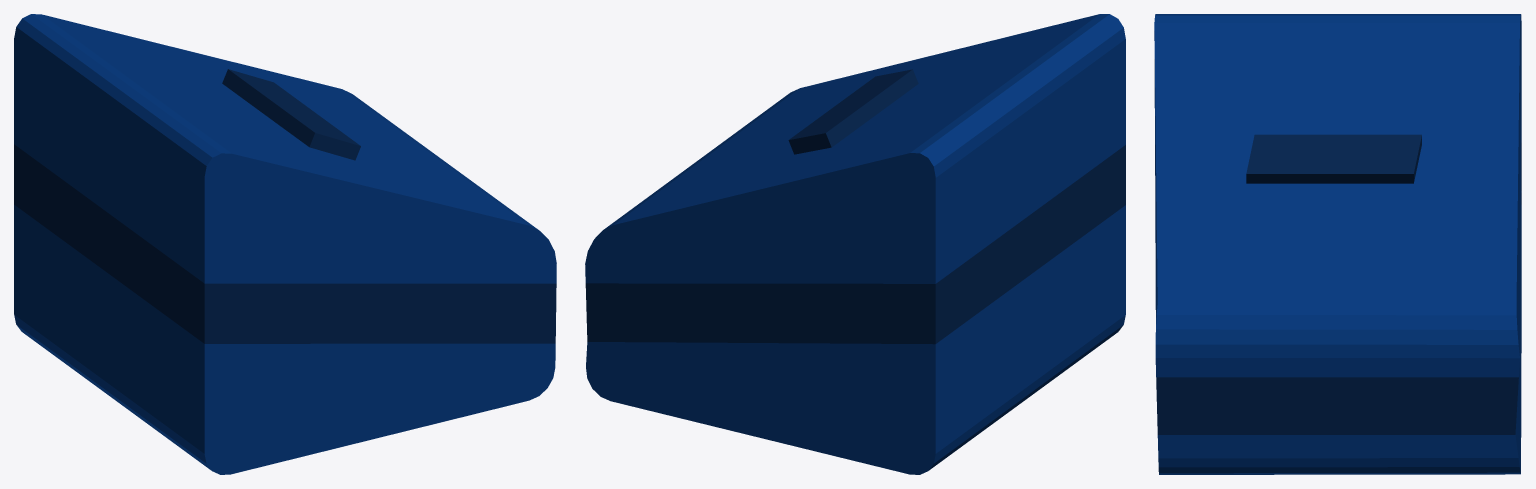
The model's file is Cache3.fbx.
3 views of the same model, side by side, from view 1: azimuth 30°, elevation 25°; view 2: azimuth 150°, elevation 25°; view 3: azimuth 270°, elevation 25° (orthographic). The views are drawn at different scales.
Parts seen in each view (by area): view 1: Cube.007; view 2: Cube.007; view 3: Cube.007.
Part boxes in pixels (x1,y1,x2,y2): Cube.007: [14, 14, 556, 474]; Cube.007: [585, 14, 1125, 474]; Cube.007: [1154, 14, 1521, 474].
Size of the model in its own units: 220 by 194 by 207.
